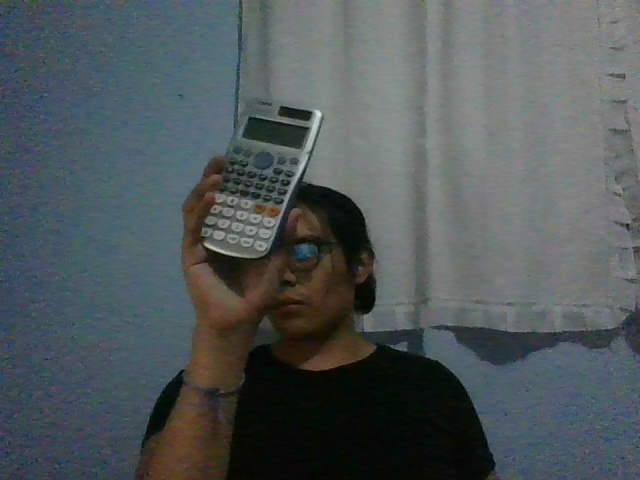calculadora: (199, 97, 324, 259)
